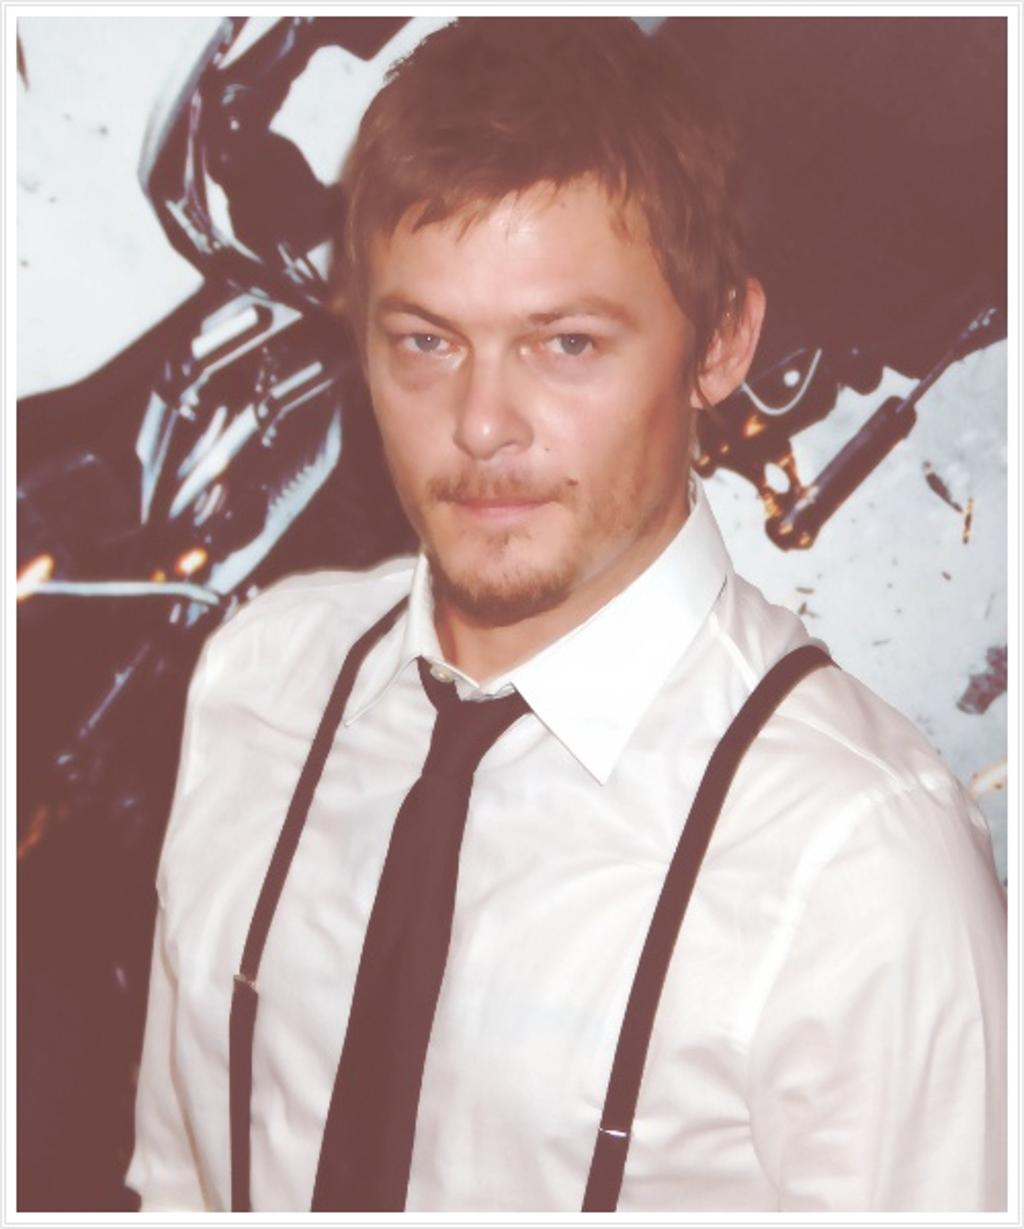face: (374, 192, 700, 600)
